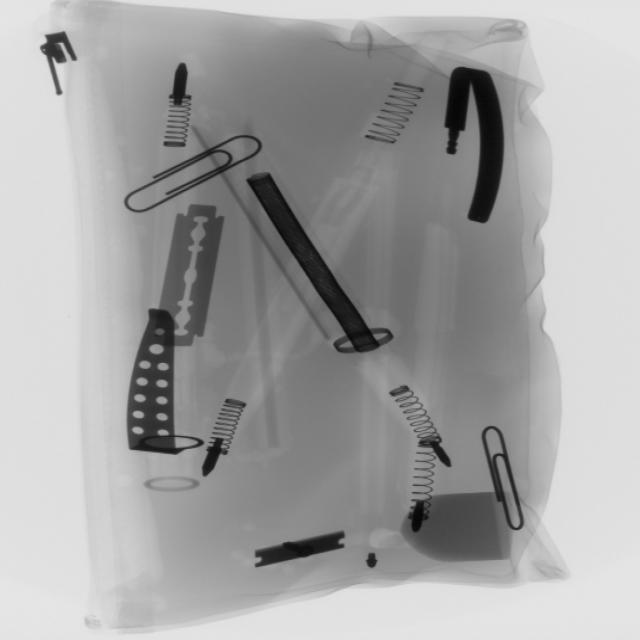BLADE: (149, 193, 230, 359)
